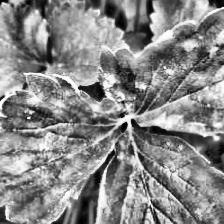Powdery Mildew Leaf: (0, 71, 124, 224), (94, 5, 224, 136), (92, 125, 224, 223)
